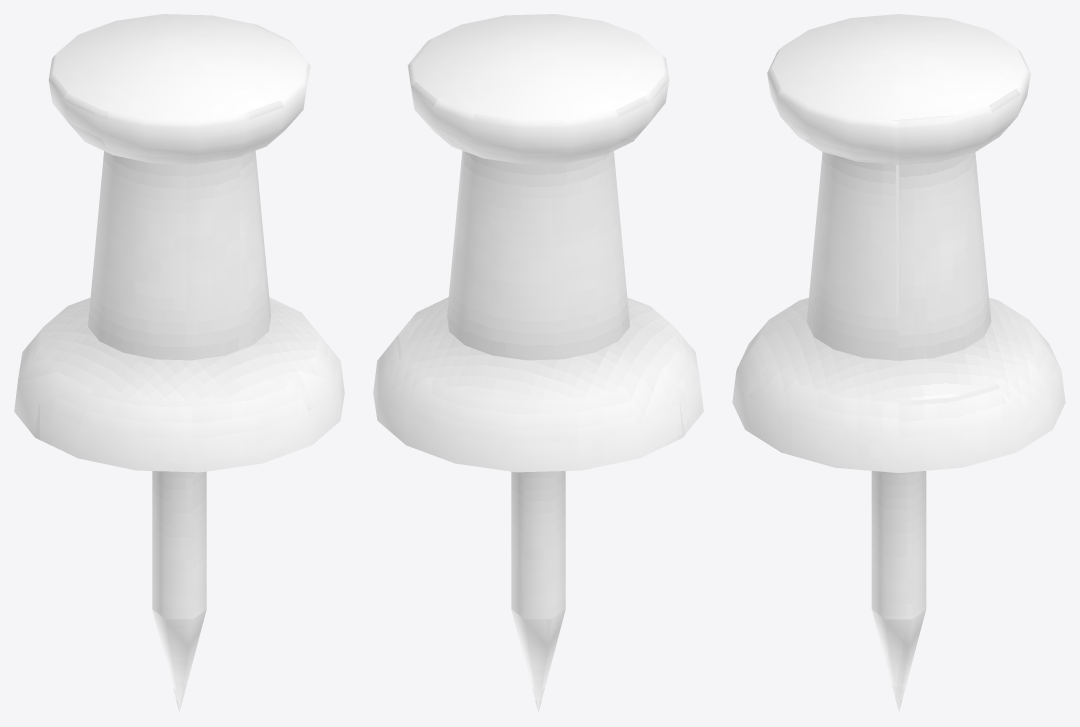
File: PinShapes.glb
3 views of the same model, side by side, from view 1: azimuth 30°, elevation 25°; view 2: azimuth 150°, elevation 25°; view 3: azimuth 270°, elevation 25° (orthographic).
Parts seen in each view (by area): view 1: PinShapes; view 2: PinShapes; view 3: PinShapes.
Boxes of the visible parts, x1,y1,x2,y2 form: PinShapes: (14,14,344,712); PinShapes: (373,14,703,712); PinShapes: (732,14,1065,711).
Size of the model in its own units: 0.0239 by 0.0521 by 0.0239.
Materials: 1 (1 with a texture image).
